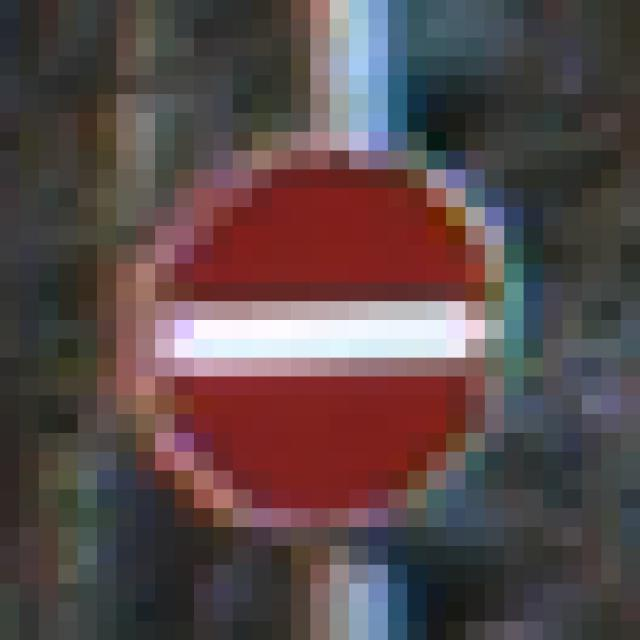No Entry: (98, 95, 544, 547)
